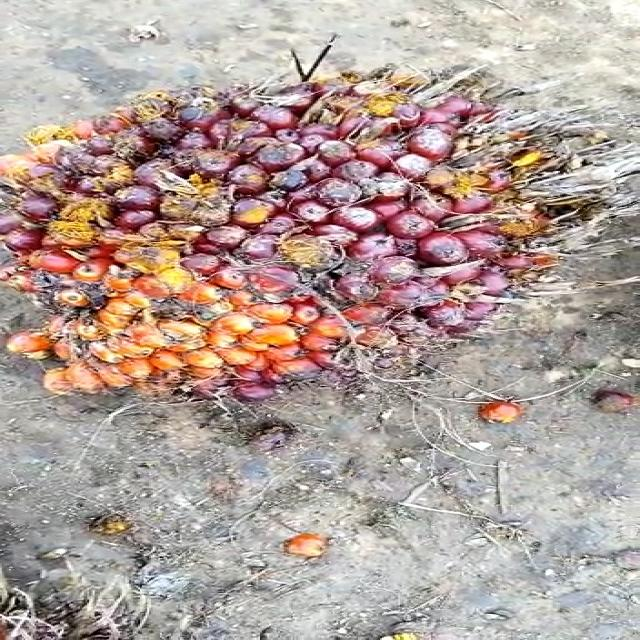palm oil: (0, 64, 640, 390)
